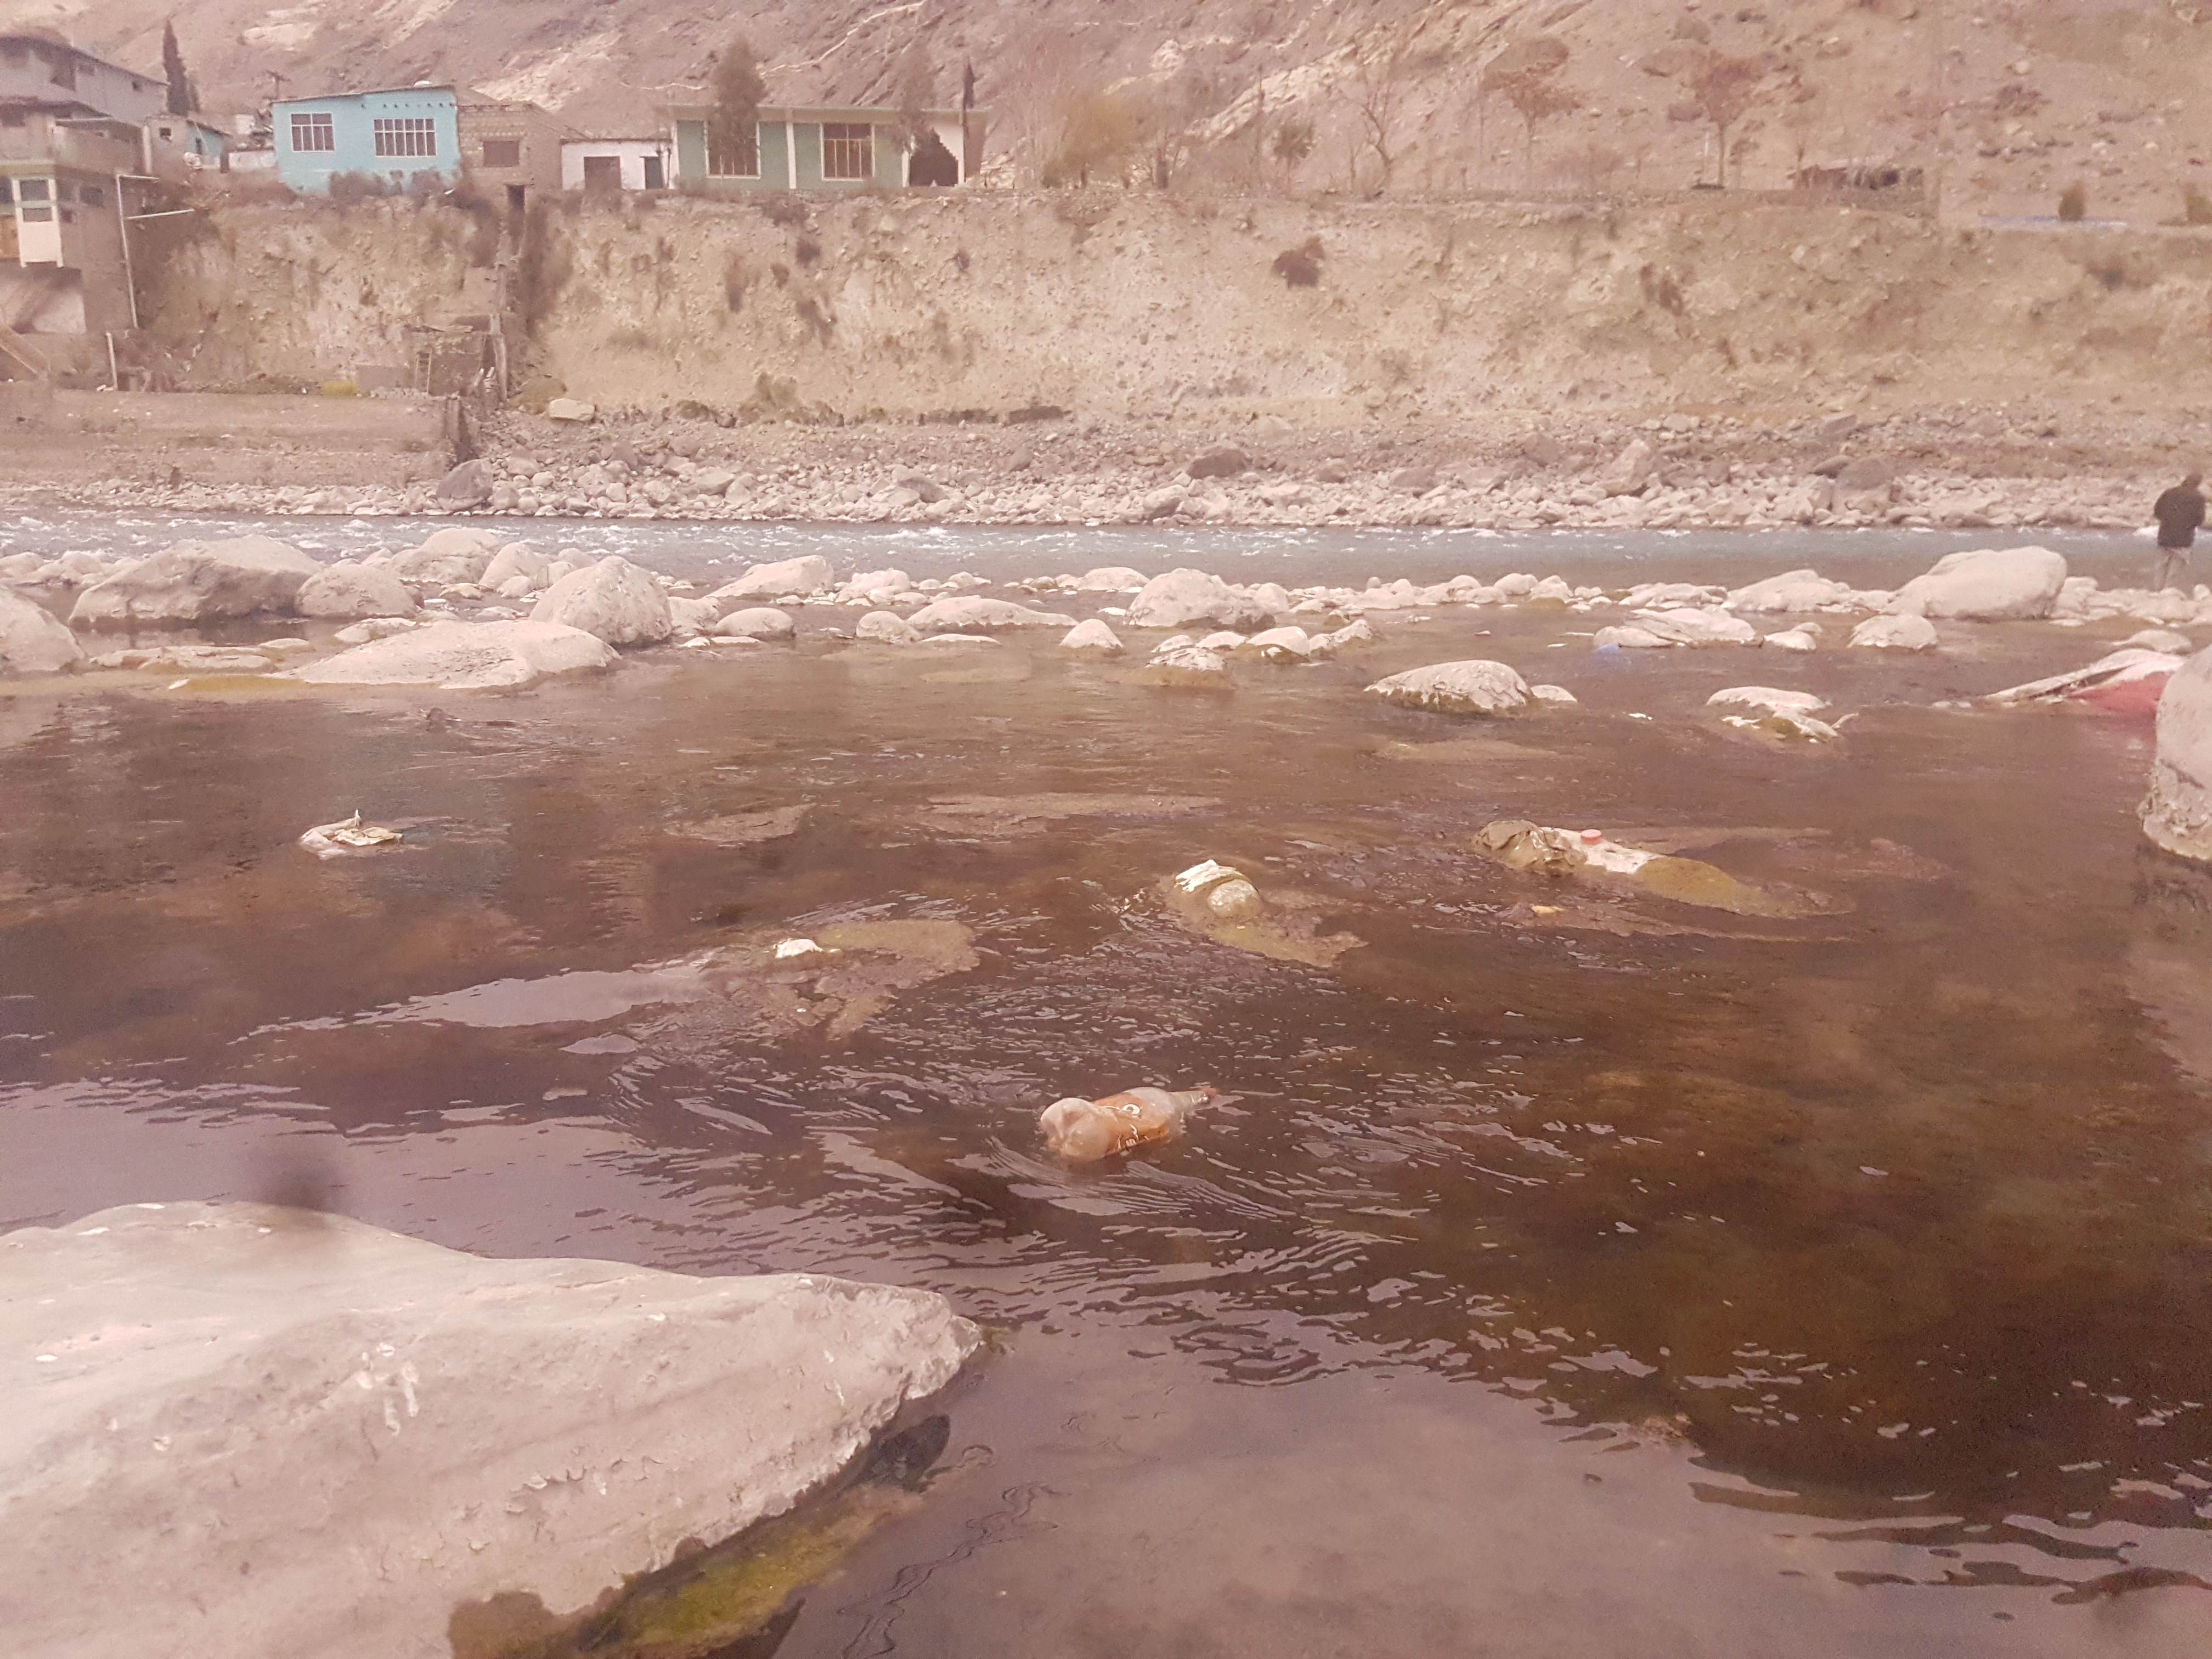Plastic Bottle: (1040, 1086, 1217, 1159), (1594, 641, 1620, 652)
